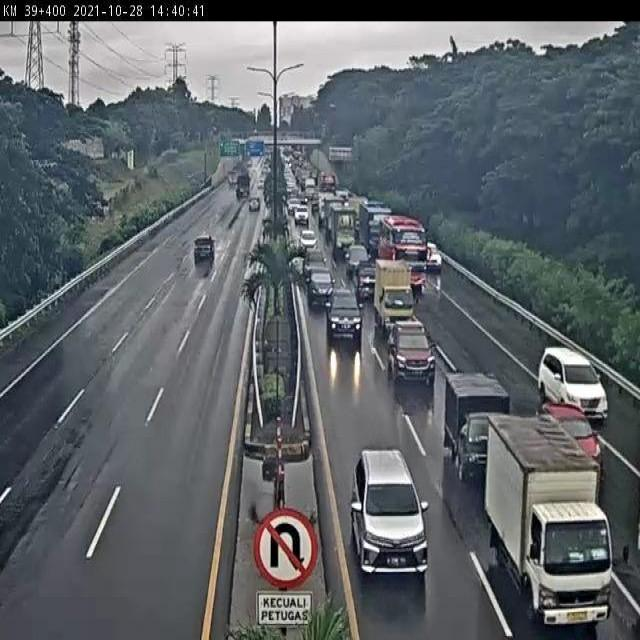bus-l-: (374, 217, 422, 288)
car: (349, 447, 429, 577), (538, 403, 605, 481), (538, 348, 607, 421), (387, 321, 435, 380), (326, 289, 363, 339), (308, 269, 335, 304), (345, 245, 371, 275), (358, 263, 378, 296), (192, 235, 216, 262), (304, 247, 328, 272)
truck-s-: (484, 414, 605, 630), (446, 373, 511, 480), (375, 263, 414, 332)
